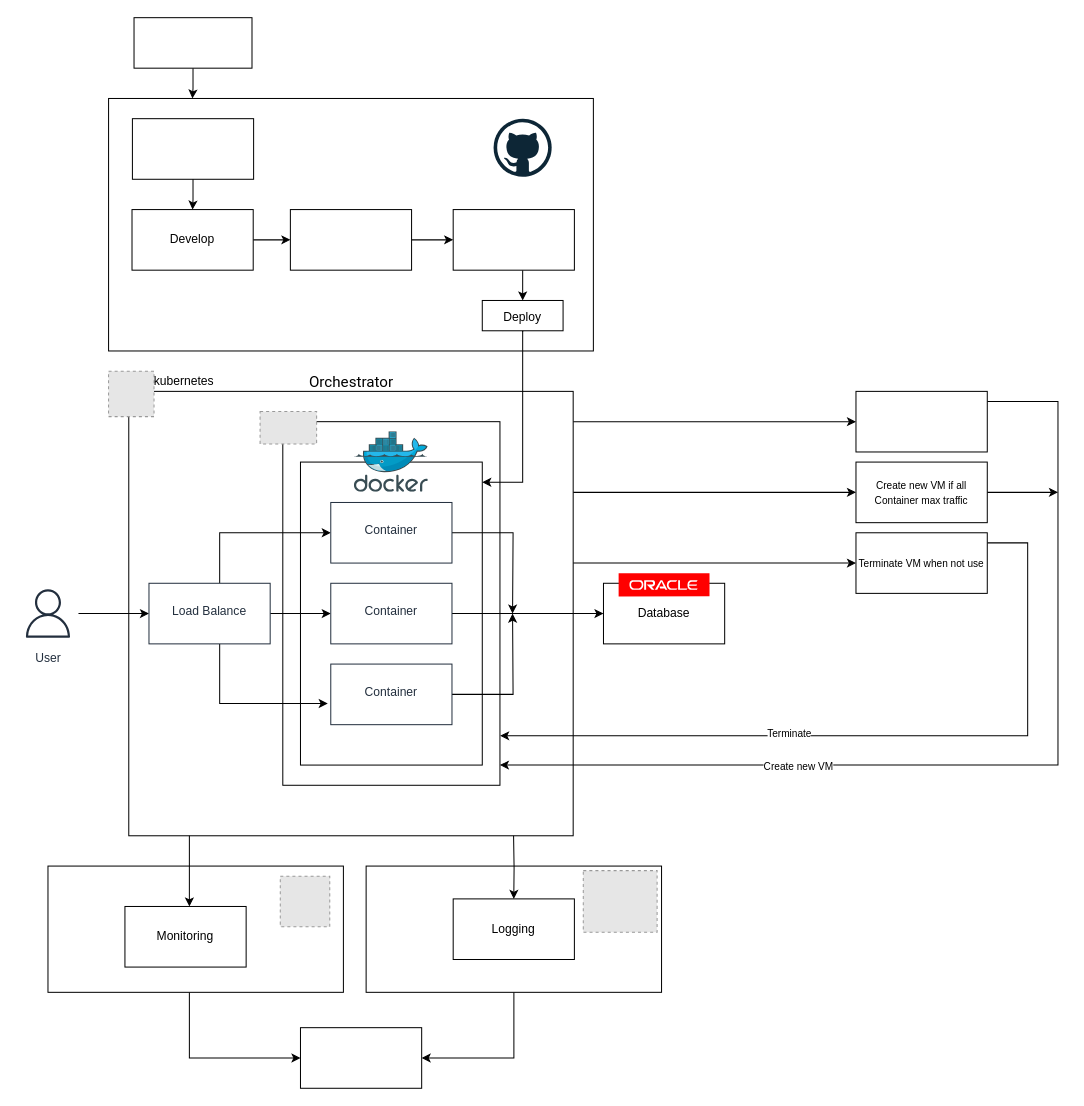
Image size: 1084x1106. Some labels were removed from this diagram. Grey dashed boxes stand in for pictures. The shapes that lost their labels are listed below. From the top down, each one's centre as x and y in pixels, then its label:
the point at 192,42: Developer team
the point at 192,148: Version Control
the point at 350,239: Testing
the point at 513,239: Production
the point at 921,421: Create new VM if all Container unavailable
the point at 360,1057: Operations
